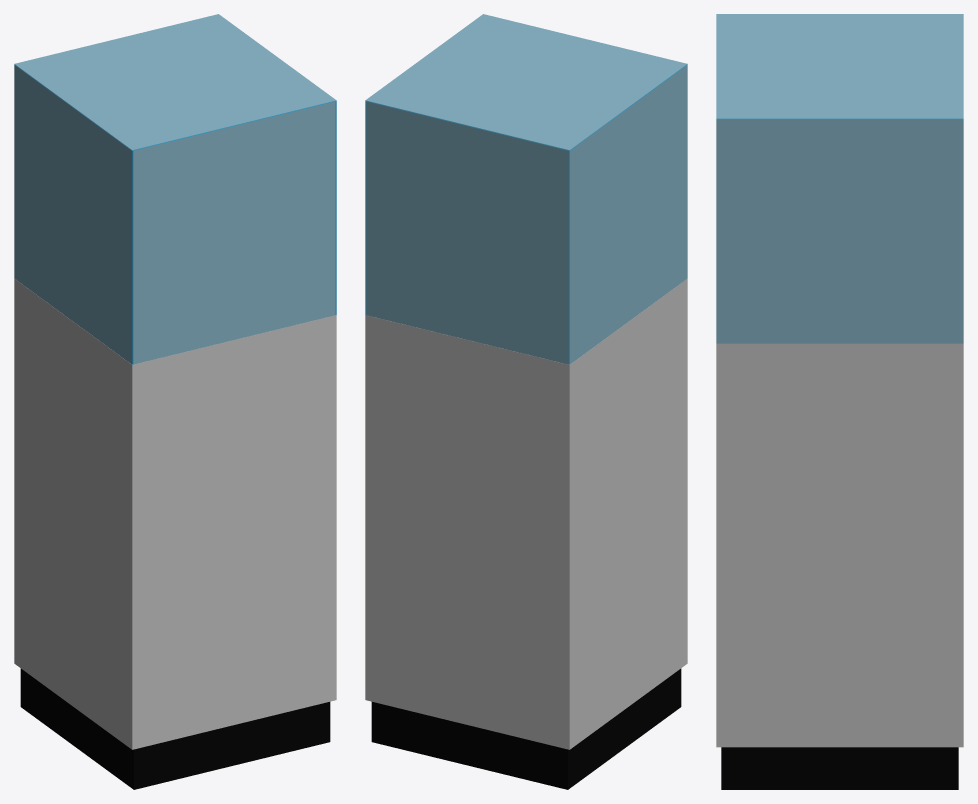
The model's file is Display Case.fbx.
3 views of the same model, side by side, from view 1: azimuth 30°, elevation 25°; view 2: azimuth 150°, elevation 25°; view 3: azimuth 270°, elevation 25° (orthographic). The views are drawn at different scales.
Parts seen in each view (by area): view 1: Display_Case, Glass; view 2: Display_Case, Glass; view 3: Display_Case, Glass.
Part boxes in pixels (x1=…): Display_Case: x1=14, y1=278, x2=336, y2=789; Glass: x1=14, y1=14, x2=336, y2=364; Display_Case: x1=365, y1=278, x2=687, y2=789; Glass: x1=365, y1=14, x2=687, y2=364; Display_Case: x1=716, y1=343, x2=963, y2=789; Glass: x1=716, y1=14, x2=963, y2=343.
Size of the model in its own units: 50 by 150 by 50.
